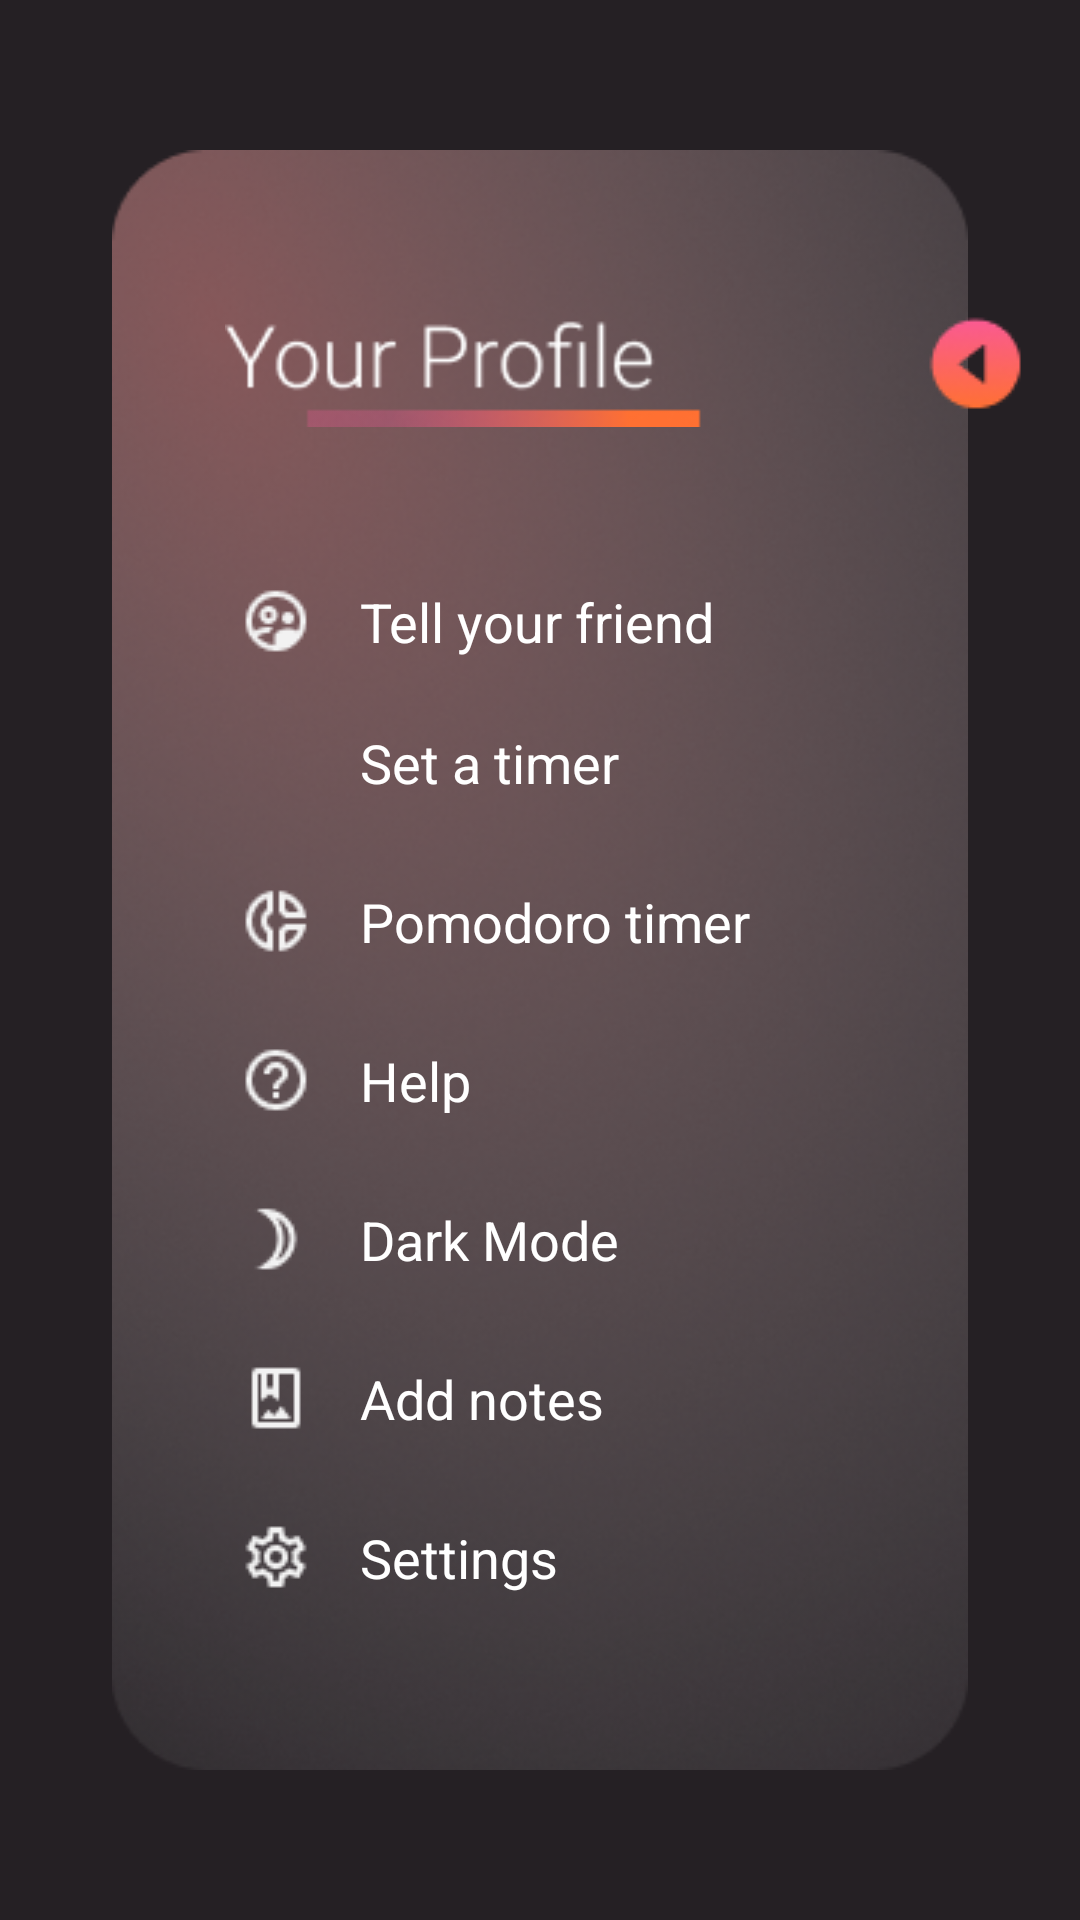

Named icons in this screenshot (1080px x 1920px) and their centers, point (x, y):
profileback: point (975, 363)
